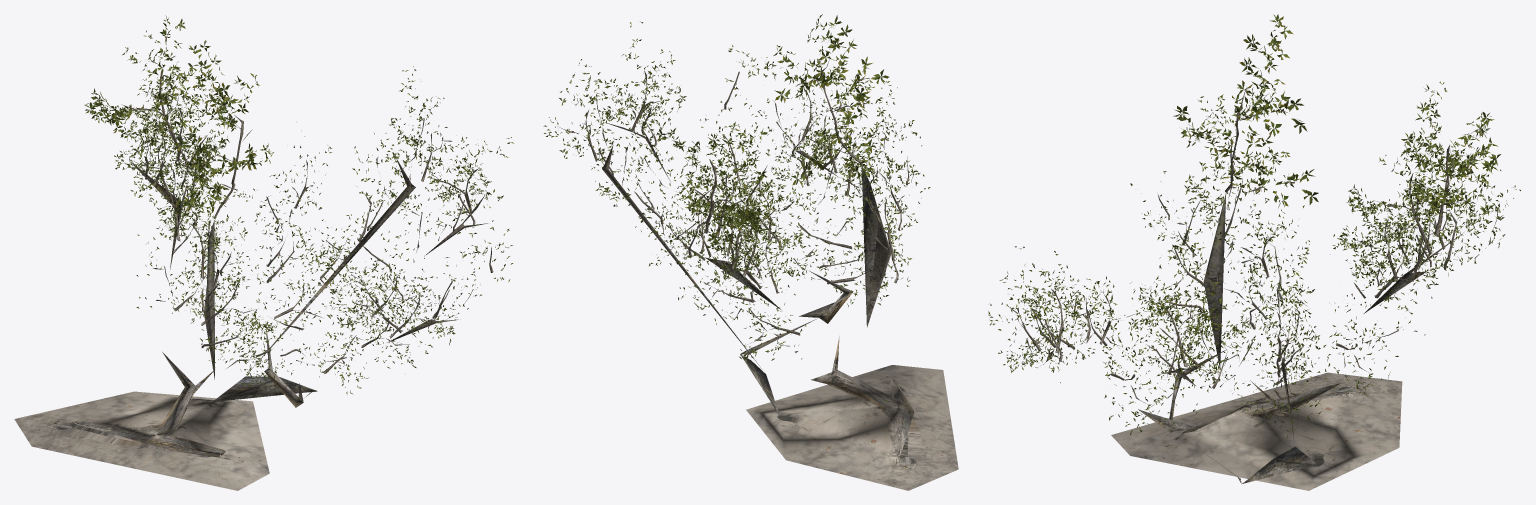
The model's file is canopy-tree-03.glb.
3 renders of one model, left to right at view 1: azimuth 30°, elevation 25°; view 2: azimuth 150°, elevation 25°; view 3: azimuth 270°, elevation 25°, orthographic. The views are drawn at different scales.
Visible parts, largest first — view 1: island_tree_03_LOD0; view 2: island_tree_03_LOD0; view 3: island_tree_03_LOD0.
Part boxes in pixels (x1,y1,x2,y2): island_tree_03_LOD0: (14, 15, 513, 490); island_tree_03_LOD0: (543, 14, 958, 490); island_tree_03_LOD0: (988, 14, 1520, 490).
Size of the model in its own units: 2.94 by 2.61 by 2.88.
Materials: 3 (3 with a texture image).
